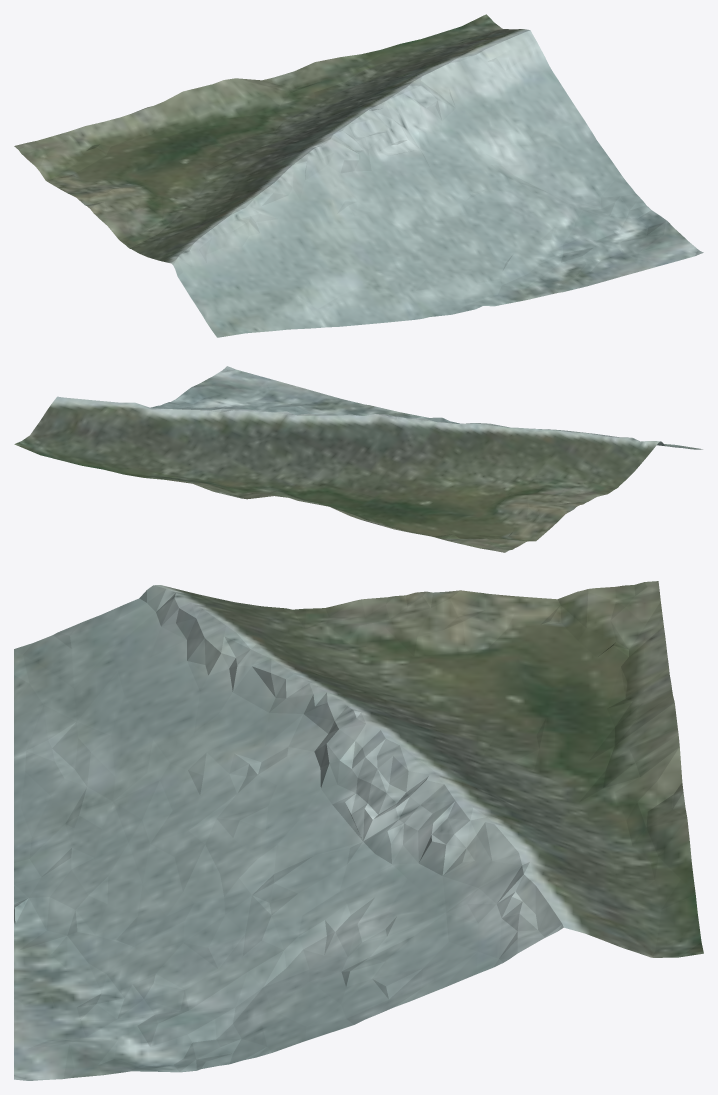
3 views of the same model, one above another, from view 1: azimuth 30°, elevation 25°; view 2: azimuth 150°, elevation 25°; view 3: azimuth 270°, elevation 25° (orthographic). The views are drawn at different scales.
Parts seen in each view (by area): view 1: Plane; view 2: Plane; view 3: Plane.
Part boxes in pixels (x1,y1,x2,y2): Plane: [14, 14, 703, 337]; Plane: [14, 366, 702, 552]; Plane: [14, 581, 703, 1080].
Size of the model in its own units: 0.5 by 0.1007 by 0.387.
Materials: 1 (1 with a texture image).
